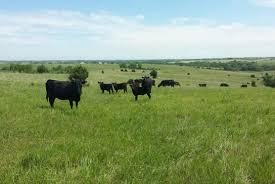cow: (46, 78, 85, 109), (130, 84, 152, 101), (111, 81, 129, 95), (97, 81, 114, 94), (158, 80, 175, 87)
